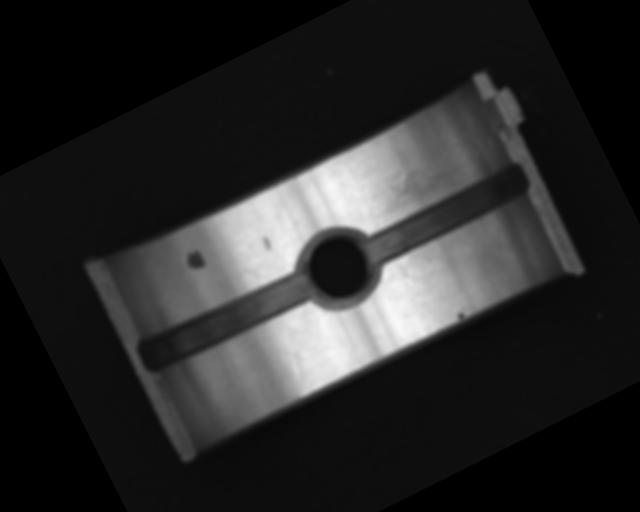blot: (181, 246, 208, 273), (454, 305, 469, 321)
bruise: (260, 235, 273, 252)
gap: (133, 257, 319, 378), (362, 163, 533, 269)
hole: (291, 217, 391, 319)
nick: (268, 316, 307, 375)
scratch: (359, 146, 476, 225)
